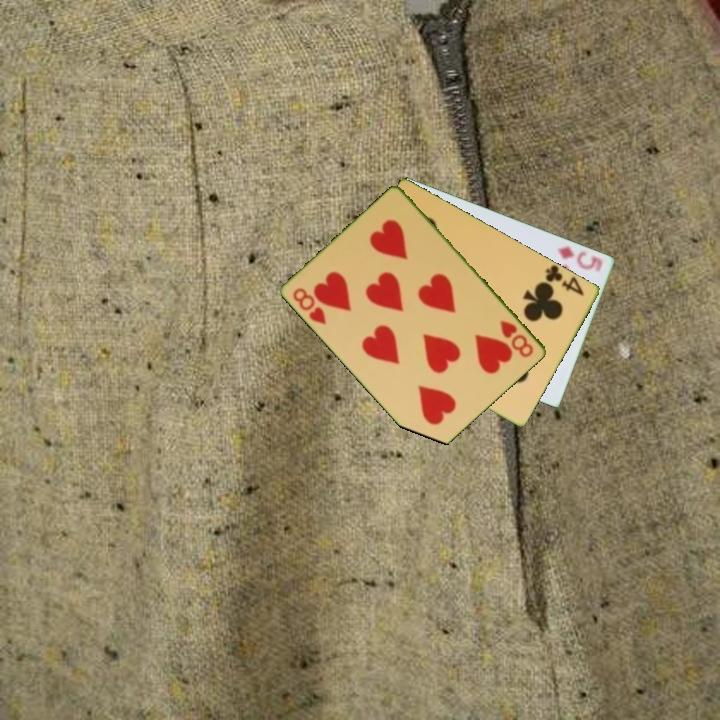4c: (542, 262, 588, 299)
5d: (554, 242, 606, 274)
8h: (289, 284, 330, 328), (497, 317, 537, 361)
